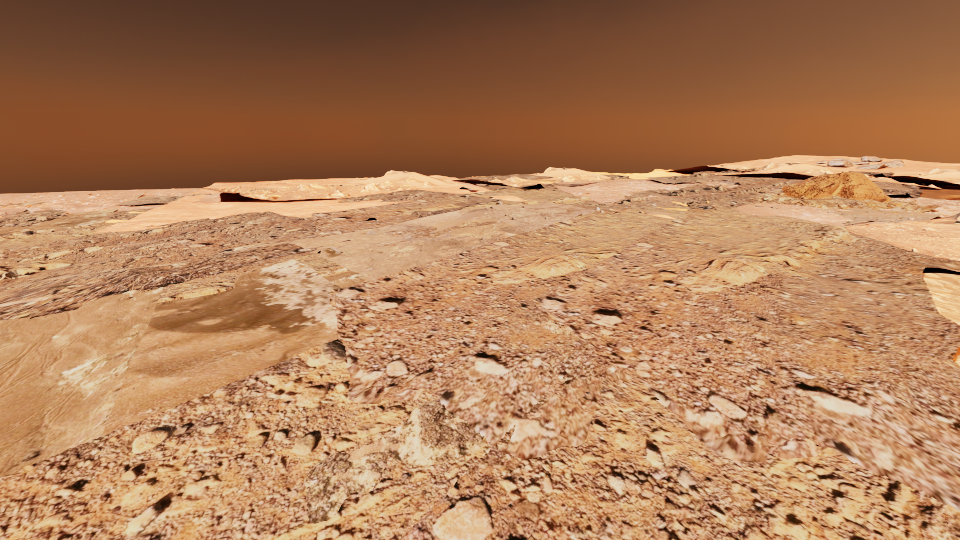bedrock: (0, 189, 599, 319), (702, 450, 959, 539), (580, 172, 959, 225), (312, 436, 492, 539), (628, 218, 871, 292), (455, 219, 667, 284), (0, 193, 203, 226), (459, 174, 552, 181), (541, 320, 577, 336), (517, 183, 586, 190), (103, 209, 151, 219), (476, 184, 515, 189), (849, 171, 894, 175), (600, 174, 630, 179), (873, 182, 897, 184), (718, 170, 742, 172)
hole: (942, 196, 959, 200)
rocks: (782, 172, 890, 202), (815, 156, 904, 169)
sand: (0, 260, 369, 477), (304, 399, 483, 523), (0, 189, 401, 233), (827, 158, 959, 175), (922, 267, 959, 324), (714, 155, 861, 167), (204, 178, 369, 188), (417, 175, 491, 193), (592, 169, 692, 178), (342, 190, 391, 197), (490, 196, 526, 200), (951, 347, 959, 364), (925, 177, 955, 180), (536, 179, 558, 183), (941, 186, 959, 188)
soil: (0, 179, 959, 539), (312, 195, 467, 237), (0, 222, 120, 249), (202, 252, 315, 278), (206, 184, 363, 200), (0, 188, 200, 198), (155, 235, 226, 262), (0, 244, 71, 263), (667, 168, 787, 178), (384, 226, 474, 237), (919, 180, 959, 198), (866, 176, 915, 190), (888, 195, 952, 205), (114, 203, 165, 211), (491, 179, 543, 186), (663, 192, 730, 197), (0, 209, 25, 217), (381, 240, 406, 245), (413, 183, 435, 188), (63, 211, 94, 214), (472, 221, 495, 225), (0, 286, 16, 291), (934, 169, 952, 173), (341, 179, 367, 181)
